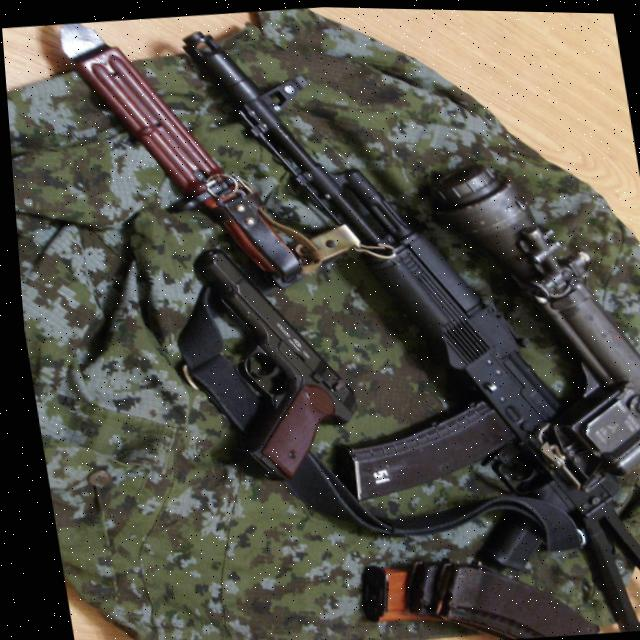firearm: (177, 3, 640, 640)
knife: (33, 7, 275, 304)
pistol: (190, 235, 363, 486)
